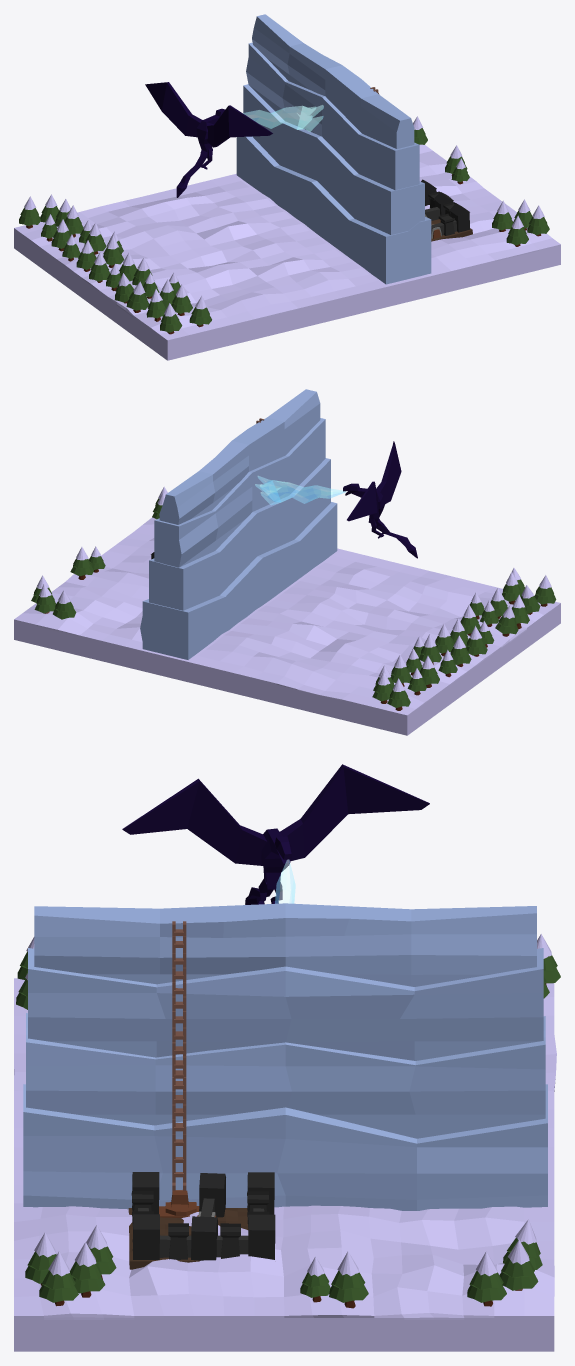
The model's file is the-wall-with-lights.glb.
3 renders of one model, top to bottom at view 1: azimuth 30°, elevation 25°; view 2: azimuth 150°, elevation 25°; view 3: azimuth 270°, elevation 25°, orthographic. The views are drawn at different scales.
Parts seen in each view (by area): view 1: Cube, Cube004, Plane001, Plane030, Plane006, Cube011_3, Cube011_2; view 2: Cube, Cube004, Plane001, Plane030, Plane006, Plane002; view 3: Cube004, Cube, Plane001, Cube011_3, Cube005, Cube011_2, Plane002, Cube011_1, Cube011, Plane033_3, Plane028_3, Plane034_2 (+2 smaller).
Boxes of the visible parts, x1,y1,x2,y2 form: Cube: (14,144,560,360); Cube004: (236,14,431,284); Plane001: (145,82,272,197); Plane030: (243,105,323,131); Plane006: (41,214,180,294); Cube011_3: (421,179,469,232); Cube011_2: (428,191,455,235); Cube: (14,517,560,735); Cube004: (140,389,337,659); Plane001: (343,441,417,558); Plane030: (255,476,345,504); Plane006: (406,592,484,695); Plane002: (70,547,93,579); Cube004: (23,903,547,1210); Cube: (14,978,556,1351); Plane001: (122,764,429,904); Cube011_3: (132,1172,275,1260); Cube005: (172,921,186,1191); Cube011_2: (131,1191,269,1259); Plane002: (329,1251,368,1308); Cube011_1: (128,1208,248,1269); Cube011: (137,1198,264,1257); Plane033_3: (467,1271,506,1302); Plane028_3: (39,1270,78,1302); Plane034_2: (499,1258,538,1290).
Bounding box in the file's own units: 50.93 × 23.13 × 34.48.
